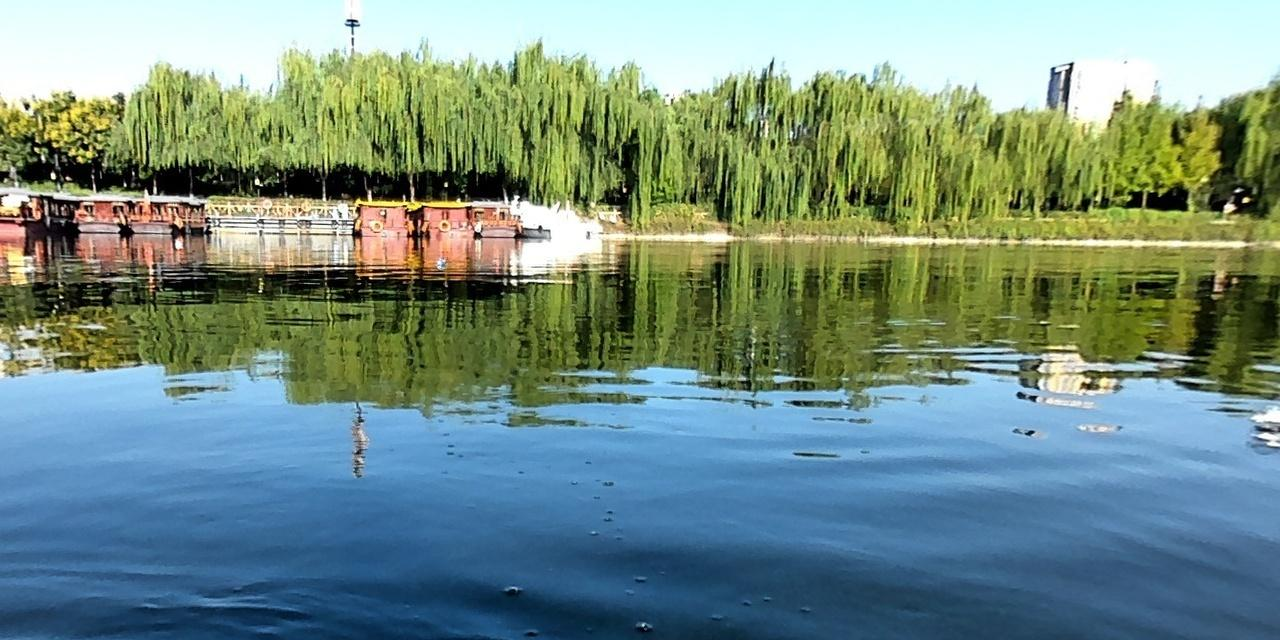bottle: (434, 255, 446, 266)
